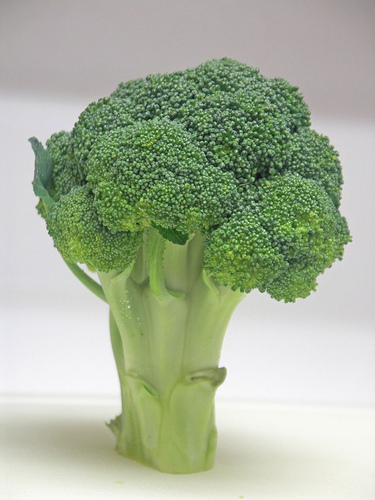broccoli: (21, 58, 358, 480)
